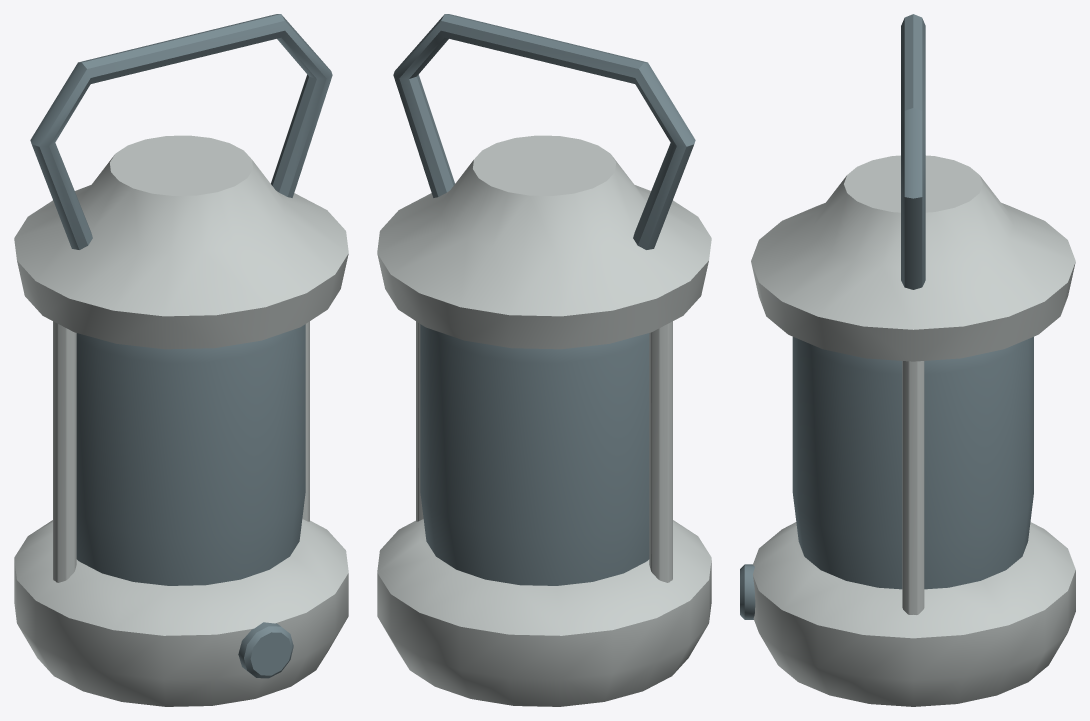
The model's file is lantern.glb.
3 renders of one model, left to right at view 1: azimuth 30°, elevation 25°; view 2: azimuth 150°, elevation 25°; view 3: azimuth 270°, elevation 25°, orthographic. The views are drawn at different scales.
Parts seen in each view (by area): view 1: glass, hood, base, carry_handle, guard, control_knob, guard.001; view 2: glass, hood, base, carry_handle, guard, guard.001; view 3: glass, hood, base, carry_handle, guard.001, control_knob.
Boxes of the visible parts, box(x1,y1,x2,y2) form: glass: box(76, 324, 305, 585); hood: box(14, 135, 348, 349); base: box(14, 519, 348, 706); carry_handle: box(30, 14, 332, 249); guard: box(53, 321, 76, 582); control_knob: box(238, 622, 293, 678); guard.001: box(302, 321, 309, 521); glass: box(420, 324, 649, 585); hood: box(377, 135, 711, 349); base: box(377, 519, 711, 706); carry_handle: box(393, 14, 695, 249); guard: box(649, 321, 672, 582); guard.001: box(416, 321, 423, 521); glass: box(792, 337, 1033, 589); hood: box(751, 155, 1075, 361); base: box(753, 522, 1075, 706); carry_handle: box(901, 14, 925, 289); guard.001: box(902, 361, 924, 614); control_knob: box(740, 564, 755, 619).
Bounding box in the file's own units: 0.216 × 0.4178 × 0.217.
